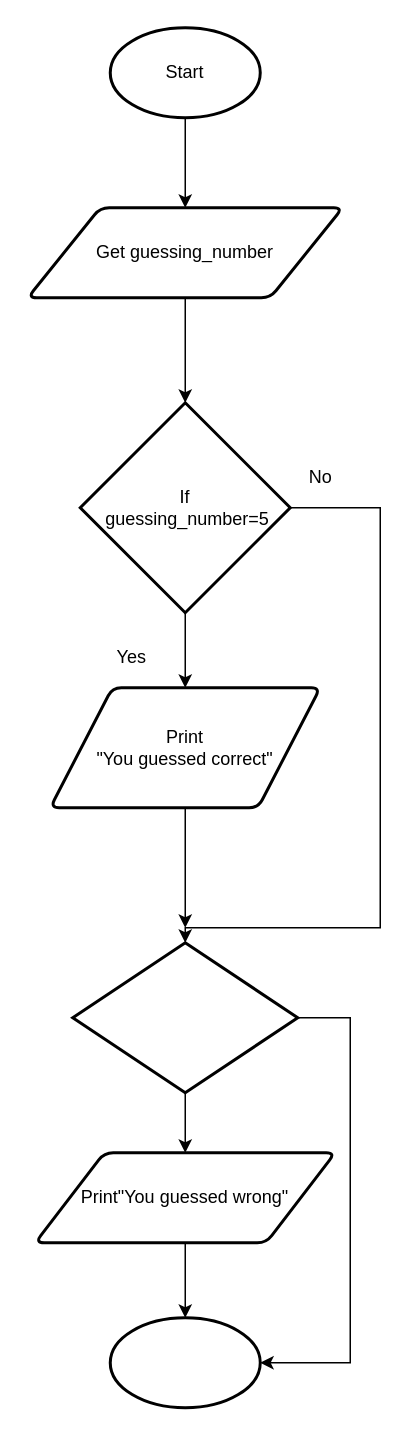
Some shapes in this 419 by 1434 pixel diagram are drawn without their labels. Here are the shapes that lost their labels. From the top down, the centre of each, then its label:
At pixel 184 1017: "If guessing_number!=5".
At pixel 184 1362: "Stop".
